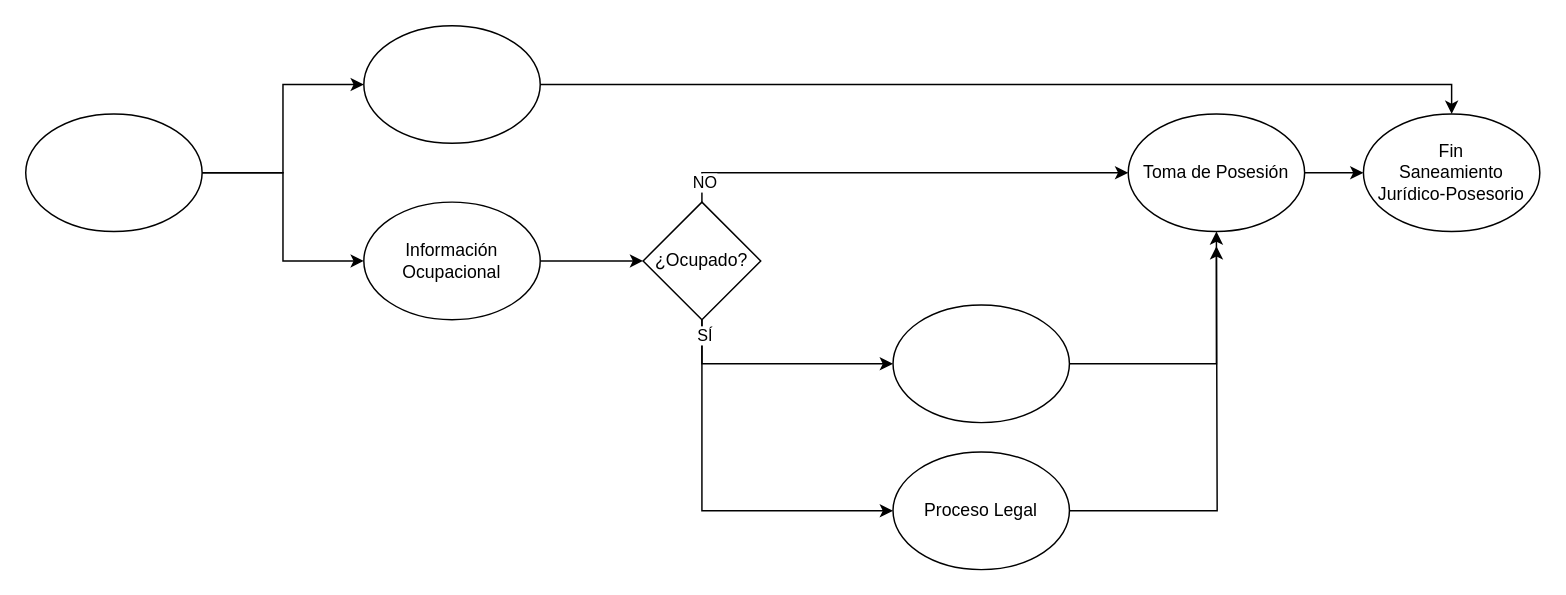
The diagram is 1566 pixels wide and 595 high, and some of its shapes have lost their labels. The shapes that lost their labels are listed below. From the top down, each one's box as (x1, y1, x2, y2) in pixels, then its label:
(362, 24, 540, 143): Proceso Inscripción Registral
(24, 112, 202, 232): Inicio Saneamiento Jurídico-Posesorio
(892, 304, 1069, 423): Mediación Extrajudicial
